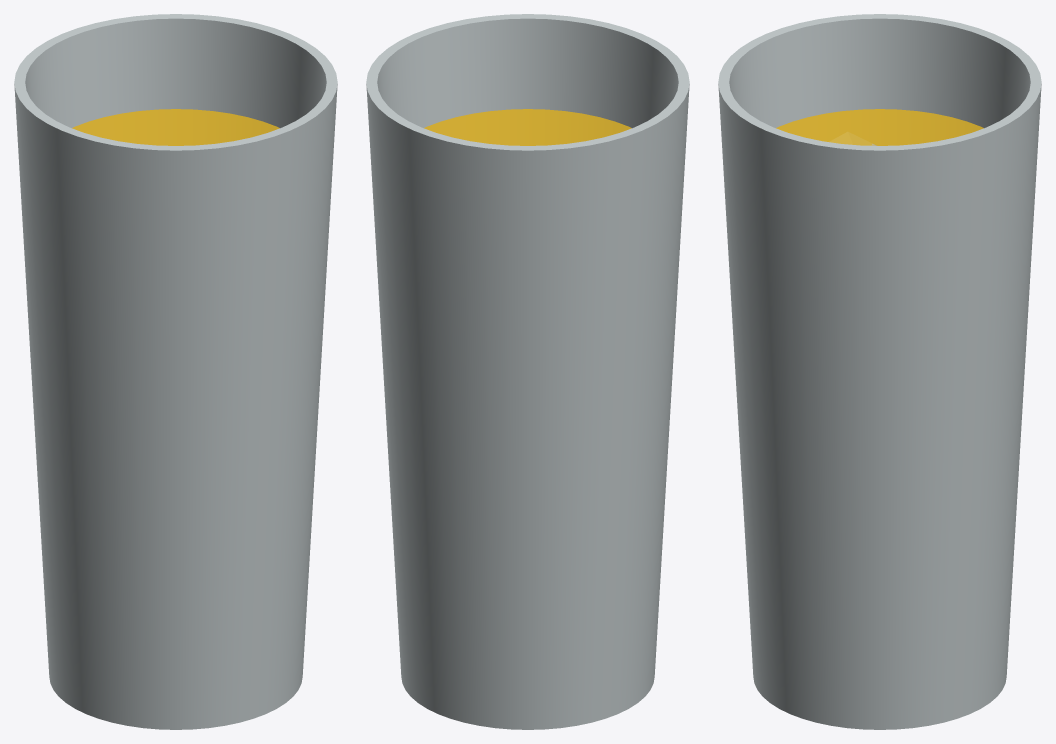
Rendered from copo_suco-amarelo.glb.
The picture shows the model from 3 angles, left to right: view 1: azimuth 30°, elevation 25°; view 2: azimuth 150°, elevation 25°; view 3: azimuth 270°, elevation 25°; orthographic projection.
Visible parts, largest first — view 1: copo_suco-amarelo; view 2: copo_suco-amarelo; view 3: copo_suco-amarelo.
Part boxes in pixels (left/top/right/bottom): copo_suco-amarelo: left=14, top=14, right=337, bottom=729; copo_suco-amarelo: left=366, top=14, right=689, bottom=729; copo_suco-amarelo: left=718, top=14, right=1041, bottom=729.
Bounding box in the file's own units: 0.074 × 0.15 × 0.074.
